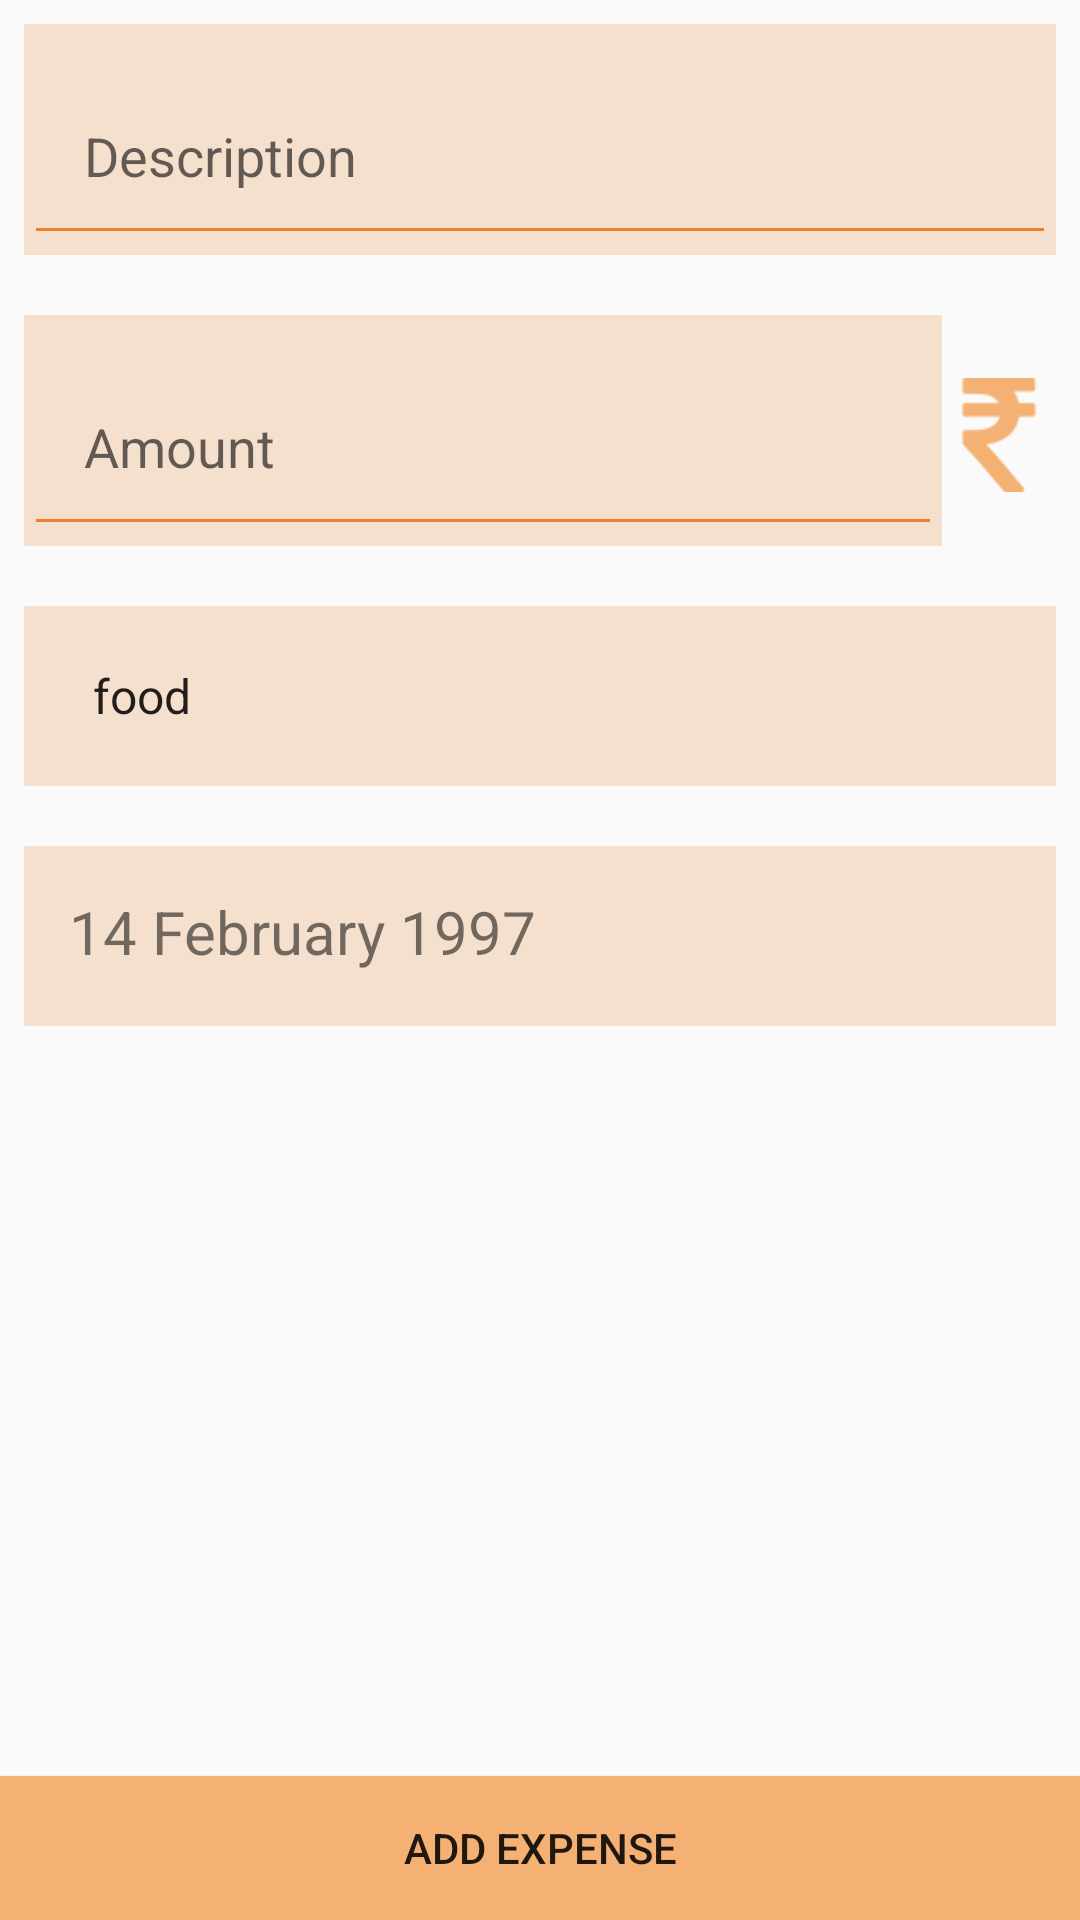

Icon bounding boxes for this 1080 x 1920 phone screenshot, format (x1, y1, x2, y2):
rupee: (961, 378, 1037, 492)
